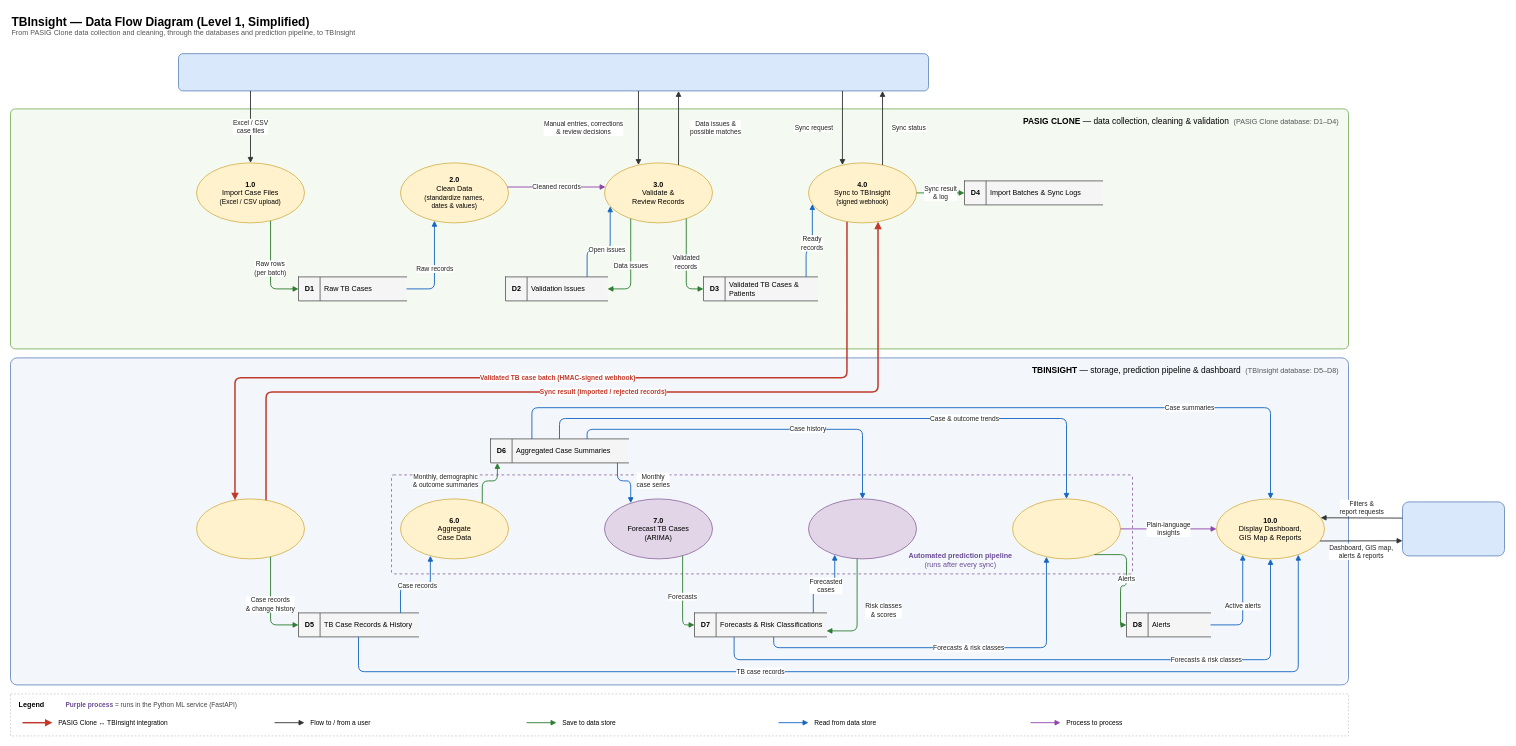
Some shapes in this 1516 by 746 pixel diagram are drawn without their labels. The shapes that lost their labels are listed below. From the top down, each one's centre as x and y in pixels, then its label:
pixel 553 72: PASIG Health Facility Staff / Admin (TB-DOTS encoders)
pixel 250 528: 5.0 Receive & Store Cases
pixel 862 528: 8.0 Classify Barangay Risk (Random Forest)
pixel 1066 528: 9.0 Generate Alerts & NLG Insights
pixel 1453 528: Health Officers / Administrators (TBInsight users)
